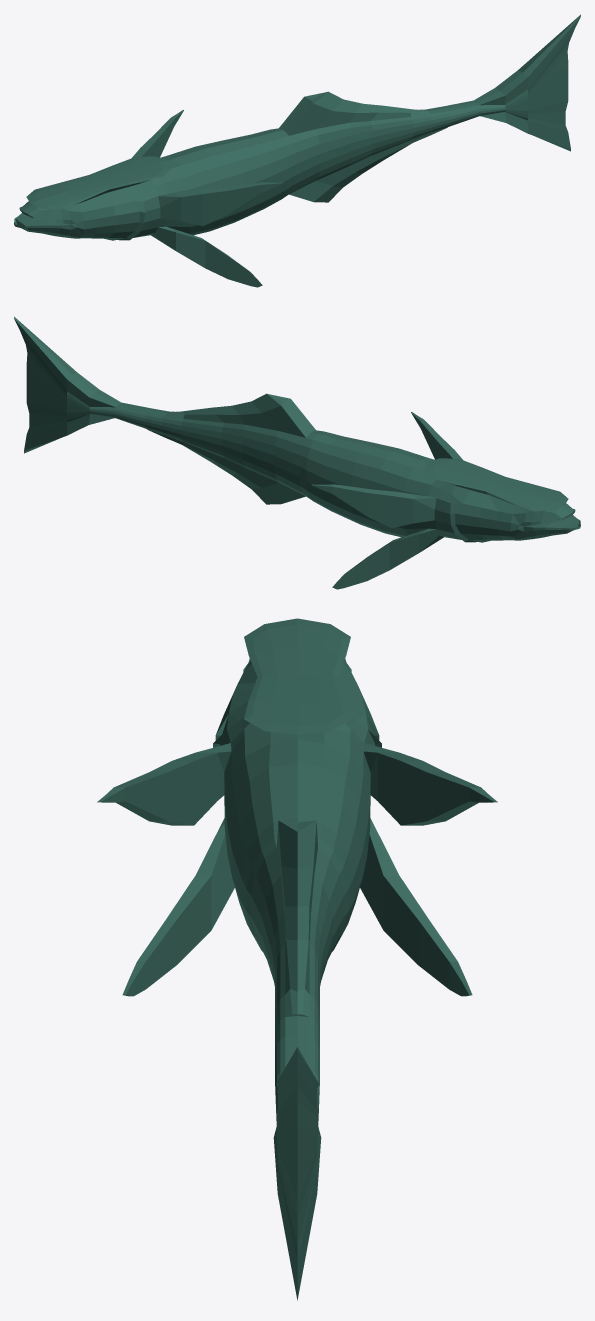
File: Remora.fbx
The picture shows the model from 3 angles, top to bottom: view 1: azimuth 30°, elevation 25°; view 2: azimuth 150°, elevation 25°; view 3: azimuth 270°, elevation 25°; orthographic projection. The views are drawn at different scales.
Visible parts, largest first — view 1: Rem; view 2: Rem; view 3: Rem.
Part boxes in pixels (bbox=[...]): Rem: bbox=[14, 14, 580, 287]; Rem: bbox=[14, 316, 580, 589]; Rem: bbox=[97, 618, 497, 1300].
Size of the model in its own units: 43.42 by 11.22 by 13.32.
